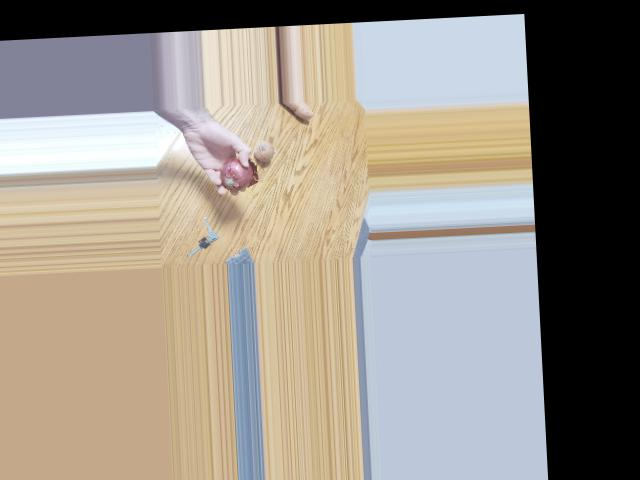onion: (252, 137, 277, 160)
